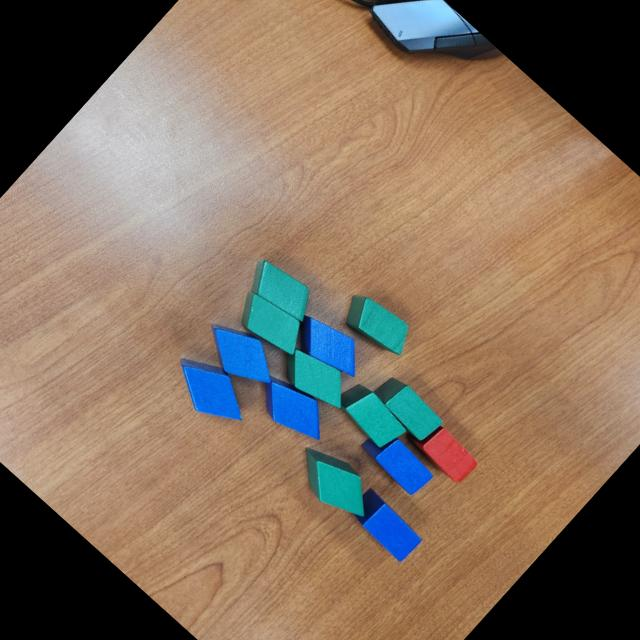blue: (162, 343, 259, 437), (193, 309, 287, 400), (248, 366, 338, 452), (284, 304, 373, 389), (344, 486, 424, 564), (356, 422, 436, 499)
green: (286, 435, 384, 530), (271, 335, 359, 420), (227, 282, 313, 365), (238, 248, 322, 330), (334, 283, 418, 365), (330, 377, 411, 455), (367, 370, 446, 446)
red: (401, 411, 481, 488)
